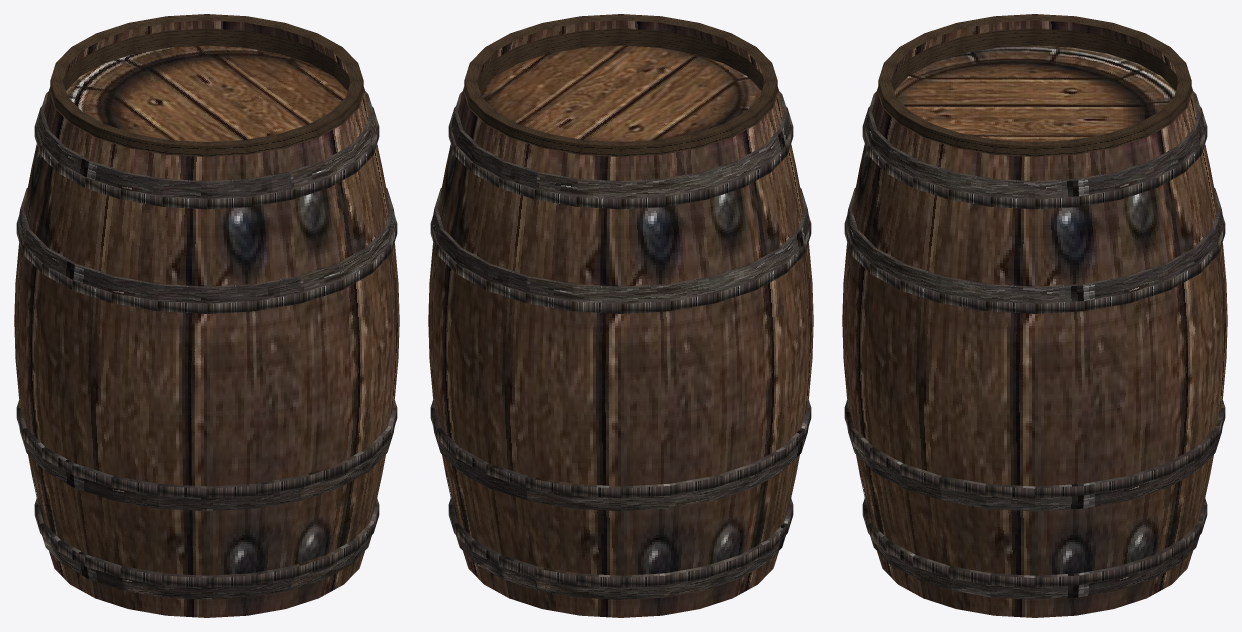
The model's file is barrel_dark.glb.
3 views of the same model, side by side, from view 1: azimuth 30°, elevation 25°; view 2: azimuth 150°, elevation 25°; view 3: azimuth 270°, elevation 25° (orthographic).
Parts seen in each view (by area): view 1: body, piece_11, piece_00, piece_07, piece_06, piece_05, piece_09, piece_08, piece_01, piece_10; view 2: body, piece_04, piece_09, piece_10, piece_11, piece_03, piece_06, piece_08, piece_05, piece_02, piece_07, piece_12; view 3: body, piece_08, piece_06, piece_02, piece_09, piece_01, piece_11, piece_10, piece_03, piece_07, piece_00, piece_12.
Boxes of the visible parts, x1=… form: body: x1=14, y1=28, x2=399, y2=617; piece_11: x1=20, y1=97, x2=237, y2=392; piece_00: x1=163, y1=378, x2=342, y2=617; piece_07: x1=197, y1=136, x2=329, y2=394; piece_06: x1=240, y1=72, x2=398, y2=377; piece_05: x1=19, y1=313, x2=196, y2=606; piece_09: x1=79, y1=14, x2=254, y2=113; piece_08: x1=241, y1=17, x2=376, y2=116; piece_01: x1=331, y1=331, x2=397, y2=589; piece_10: x1=15, y1=43, x2=171, y2=311; body: x1=428, y1=28, x2=813, y2=617; piece_04: x1=534, y1=357, x2=746, y2=608; piece_09: x1=445, y1=92, x2=650, y2=366; piece_10: x1=563, y1=116, x2=748, y2=371; piece_11: x1=651, y1=37, x2=812, y2=356; piece_03: x1=449, y1=345, x2=560, y2=599; piece_06: x1=529, y1=14, x2=707, y2=93; piece_08: x1=430, y1=27, x2=606, y2=326; piece_05: x1=715, y1=312, x2=811, y2=603; piece_02: x1=430, y1=340, x2=501, y2=593; piece_07: x1=683, y1=26, x2=737, y2=77; piece_12: x1=609, y1=78, x2=682, y2=115; body: x1=842, y1=28, x2=1227, y2=617; piece_08: x1=968, y1=119, x2=1191, y2=386; piece_06: x1=847, y1=75, x2=1012, y2=373; piece_02: x1=975, y1=349, x2=1201, y2=599; piece_09: x1=1016, y1=52, x2=1226, y2=335; piece_01: x1=847, y1=331, x2=989, y2=607; piece_11: x1=888, y1=14, x2=1074, y2=99; piece_10: x1=1038, y1=16, x2=1174, y2=91; piece_03: x1=1188, y1=301, x2=1225, y2=565; piece_07: x1=842, y1=59, x2=940, y2=329; piece_00: x1=842, y1=321, x2=892, y2=578; piece_12: x1=946, y1=92, x2=1035, y2=118.
Size of the model in its own units: 0.72 by 0.9711 by 0.72.
Materials: 1 (1 with a texture image).
